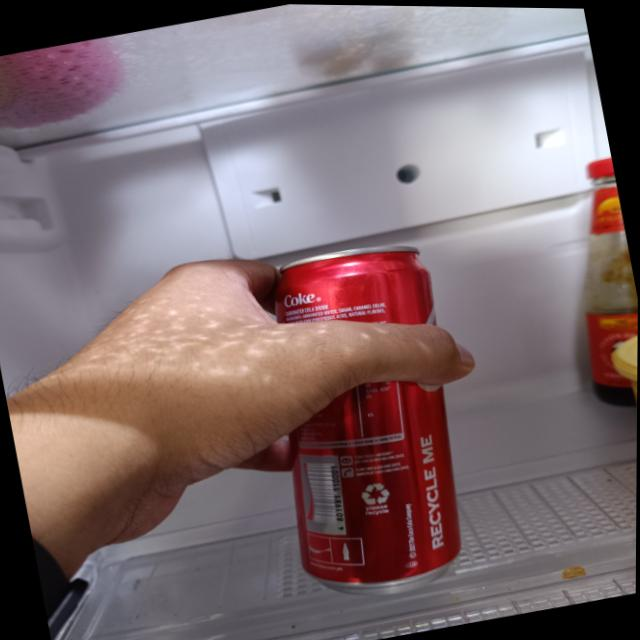coke: (249, 236, 491, 607)
